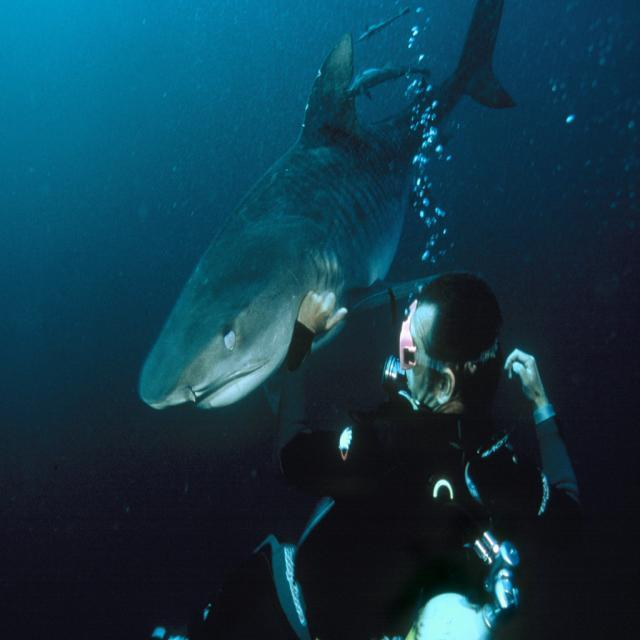Shark: (140, 0, 514, 413)
